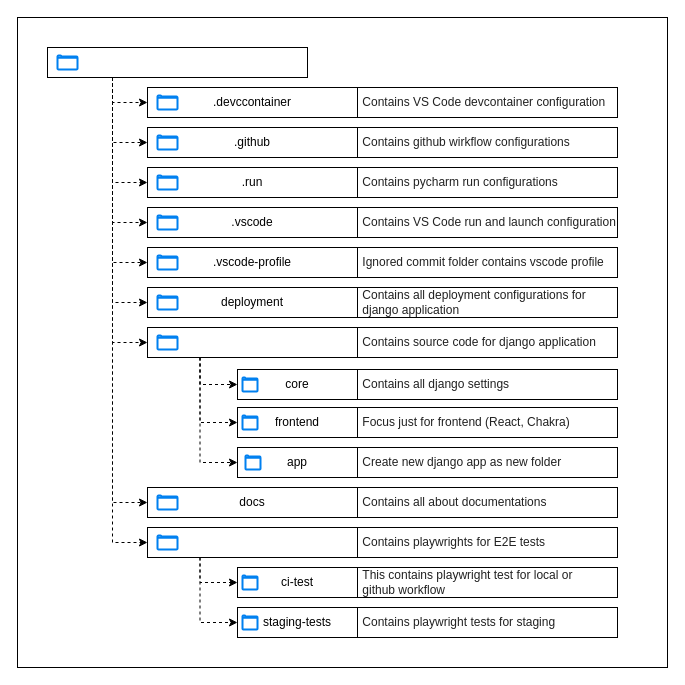
Image size: 685x685. Some labels were removed from this diagram. The box of each missing label's shape, as (x1, y1, x2, y2) in pixels:
django react base: (46, 46, 308, 78)
django_project: (146, 326, 358, 358)
playwright: (146, 526, 358, 558)
